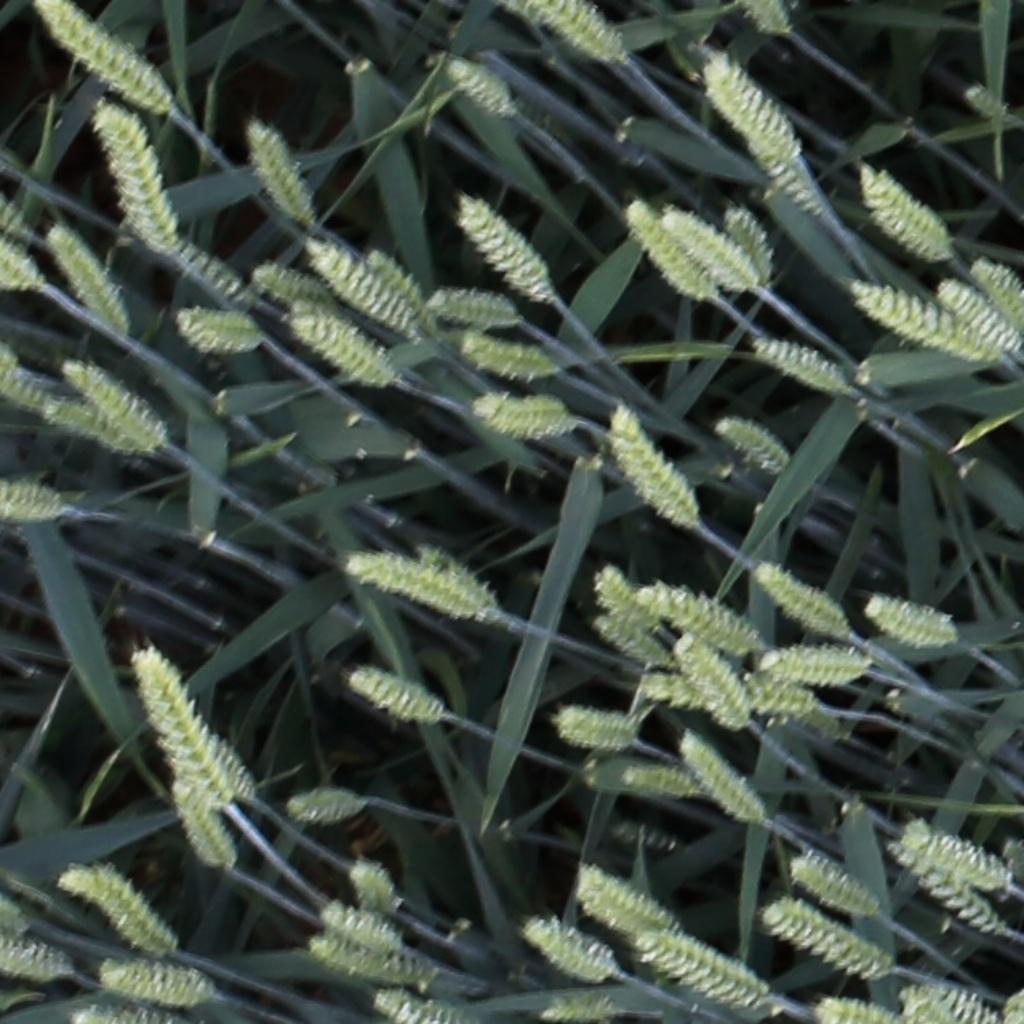0-0: (132, 652, 252, 809), (35, 2, 172, 114), (90, 102, 178, 252), (55, 861, 178, 961), (851, 281, 993, 361), (890, 845, 1013, 937), (454, 195, 555, 304), (607, 412, 697, 529), (766, 898, 894, 980), (637, 931, 767, 1007), (43, 221, 128, 337), (703, 61, 800, 159), (622, 200, 714, 301), (311, 244, 413, 335), (638, 671, 818, 722), (347, 551, 487, 615), (60, 360, 161, 445), (738, 122, 826, 219), (636, 584, 757, 653), (748, 555, 846, 637), (159, 234, 258, 315), (663, 210, 757, 294), (681, 733, 764, 828), (577, 868, 683, 941), (858, 166, 947, 252), (292, 311, 391, 386), (674, 630, 750, 727), (901, 822, 1007, 890), (247, 119, 315, 225), (97, 962, 217, 1021), (514, 1, 622, 63), (937, 278, 1022, 356), (346, 660, 442, 725), (307, 940, 439, 987), (522, 920, 622, 981), (41, 395, 146, 451), (757, 641, 877, 688), (867, 593, 962, 652), (360, 245, 432, 322), (172, 785, 234, 873), (791, 853, 881, 911), (750, 337, 846, 391), (474, 395, 579, 444), (413, 543, 492, 608), (592, 563, 659, 637), (552, 706, 648, 755), (171, 307, 263, 357), (969, 253, 1024, 335), (720, 200, 774, 282), (460, 337, 554, 383), (424, 288, 522, 332), (445, 60, 519, 118), (316, 907, 401, 957), (588, 615, 669, 667), (714, 417, 793, 470), (895, 984, 998, 1024), (249, 264, 335, 311), (0, 937, 73, 983), (287, 786, 367, 826), (0, 353, 53, 413), (621, 764, 703, 799), (0, 481, 61, 526), (372, 991, 460, 1022), (345, 864, 395, 918), (0, 228, 40, 292), (815, 999, 902, 1024), (608, 826, 677, 854), (540, 998, 615, 1022), (744, 1, 789, 36), (963, 84, 1008, 118)
